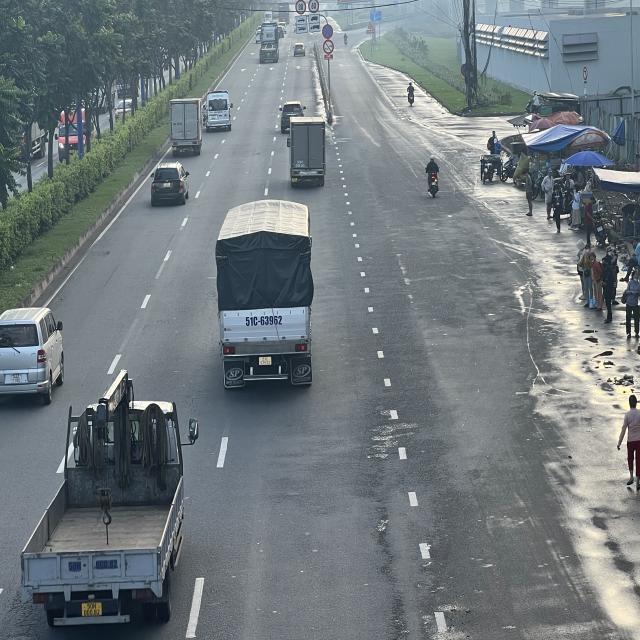car: (0, 308, 63, 404), (153, 164, 194, 208)
container: (260, 21, 280, 62)
truck: (22, 385, 200, 633), (217, 197, 316, 388), (285, 116, 327, 187), (172, 99, 207, 158)
van: (205, 90, 232, 132)
